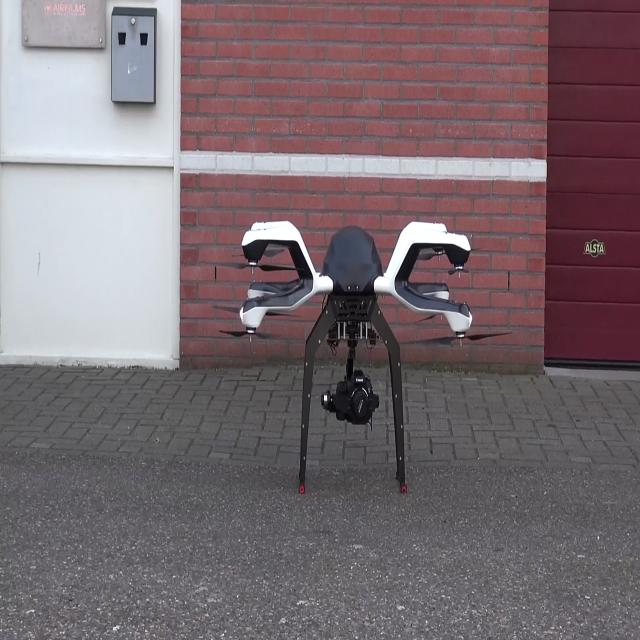drone: (230, 210, 494, 520)
